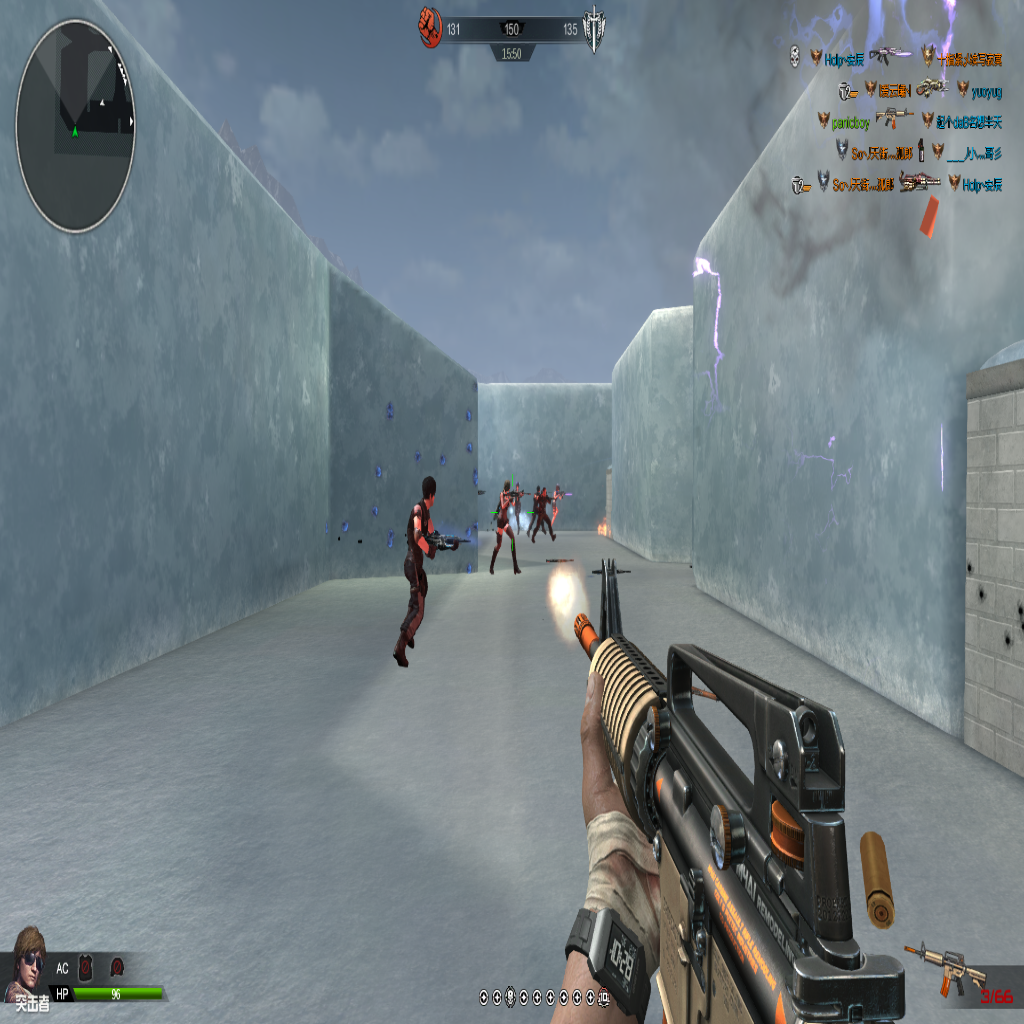ct: (394, 480, 459, 667), (488, 479, 523, 574), (533, 486, 555, 541), (512, 480, 524, 536)
